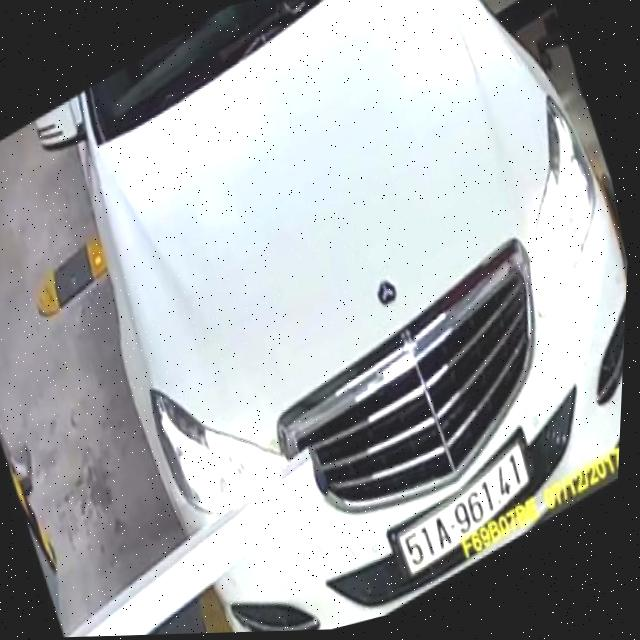car: (15, 0, 627, 633)
plate: (384, 428, 542, 588)
